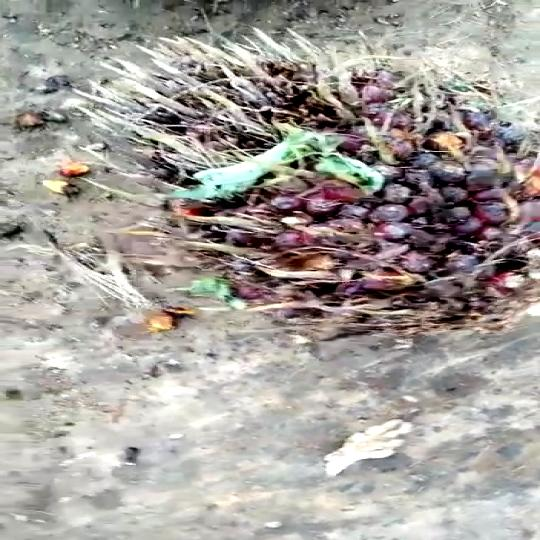masak: (74, 42, 540, 344)
